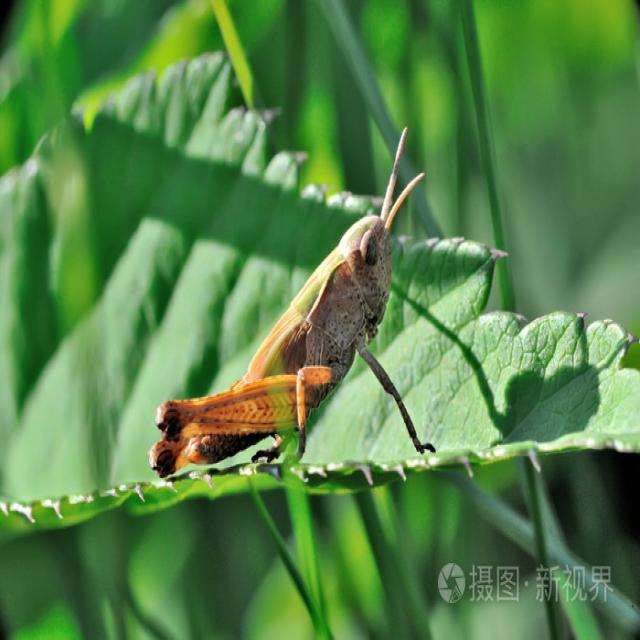ZhaMeng: (110, 152, 444, 519)
